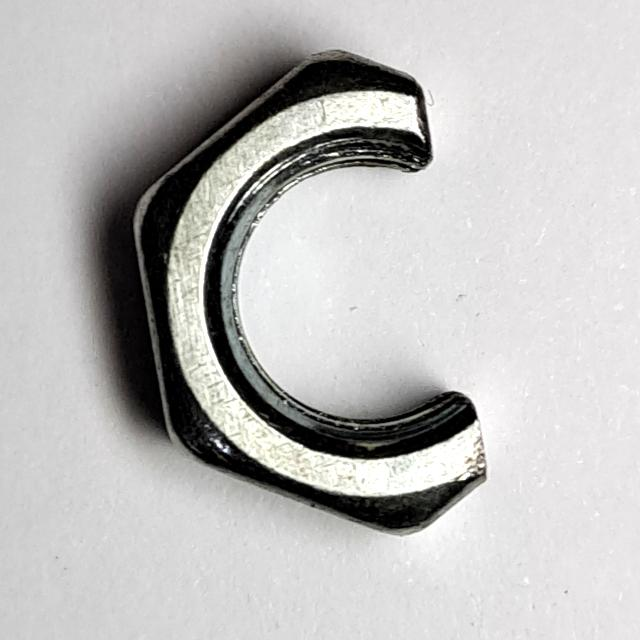Fracture: (124, 44, 510, 547)
